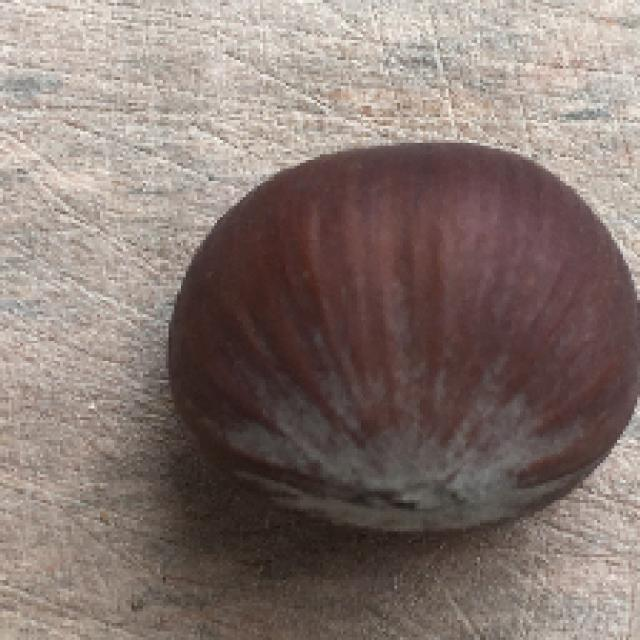qualityHazelnut: (148, 134, 640, 548)
